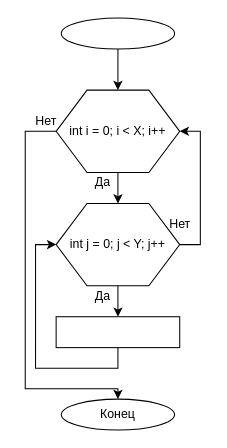
Image size: 227x448. Some labels were removed from this diagram. Each missing label, with the centre of its shape:
"pole[i][j] = ' ';" belongs at point 117,332.
"Начало" belongs at point 117,33.
